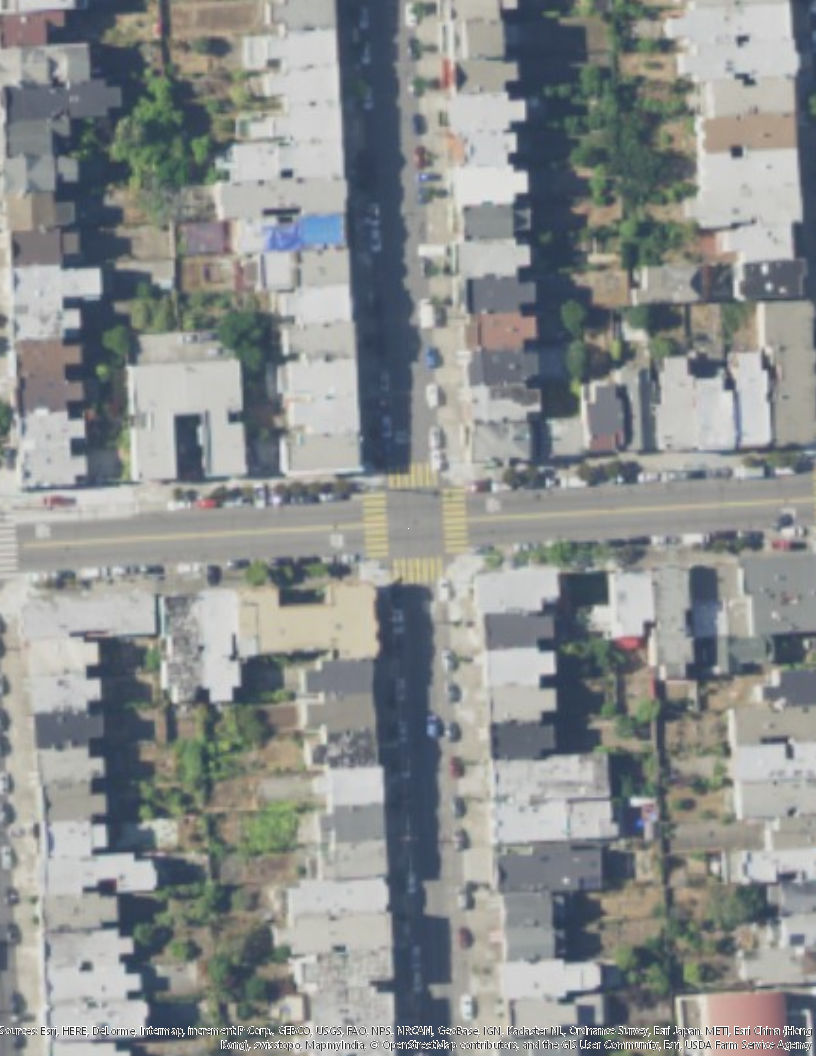zebracross: (440, 491, 469, 556), (361, 491, 388, 559), (390, 461, 440, 493), (390, 558, 444, 585), (1, 514, 19, 573)
